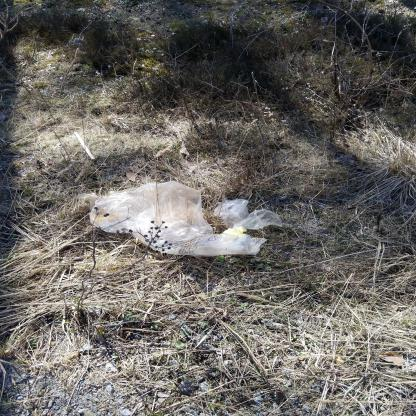plastik: (90, 181, 260, 255)
